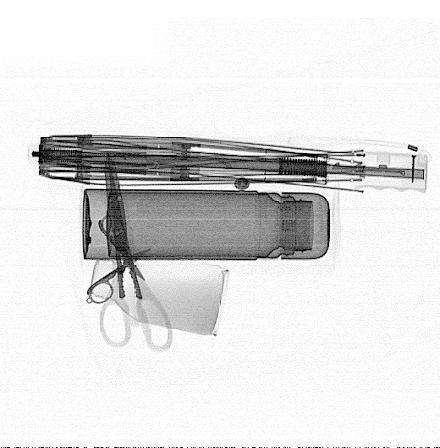Scissors: (99, 148, 175, 354), (86, 212, 153, 304)
